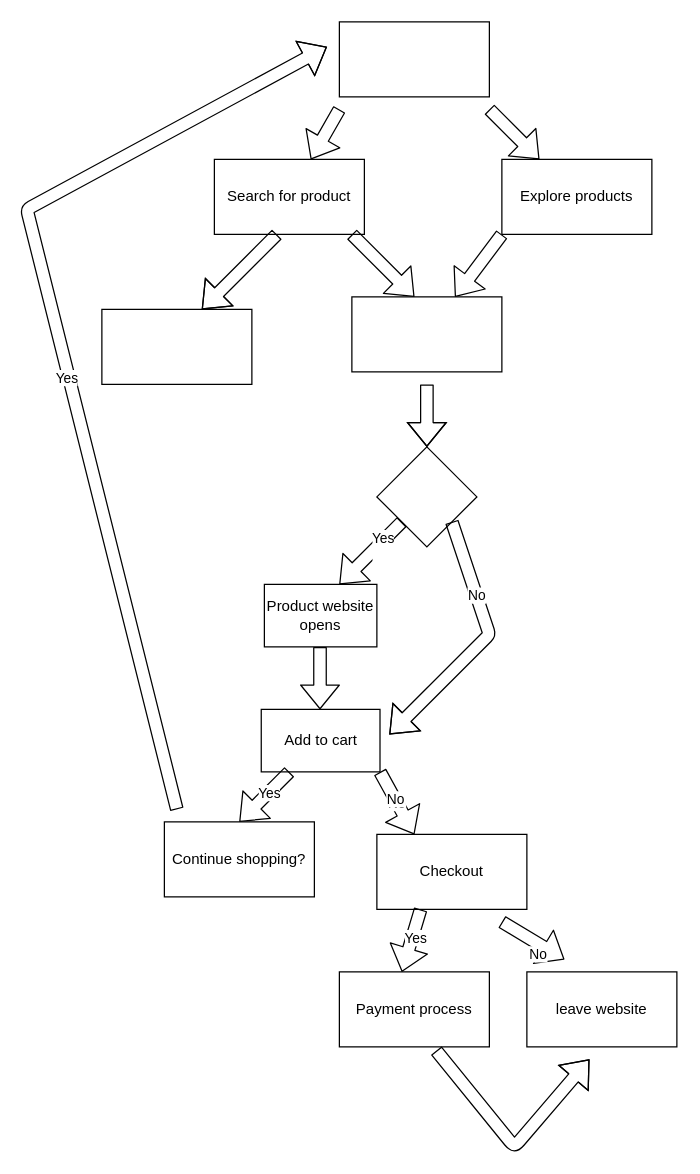
This 700x1174 diagram has some shape labels left out. The shapes that lost their labels are listed below. From the top down, each one's centre as x and y in pixels, then its label:
(x=413, y=59): User enters website
(x=176, y=346): Input Search
(x=426, y=334): Looking over products
(x=426, y=496): View Specific product
